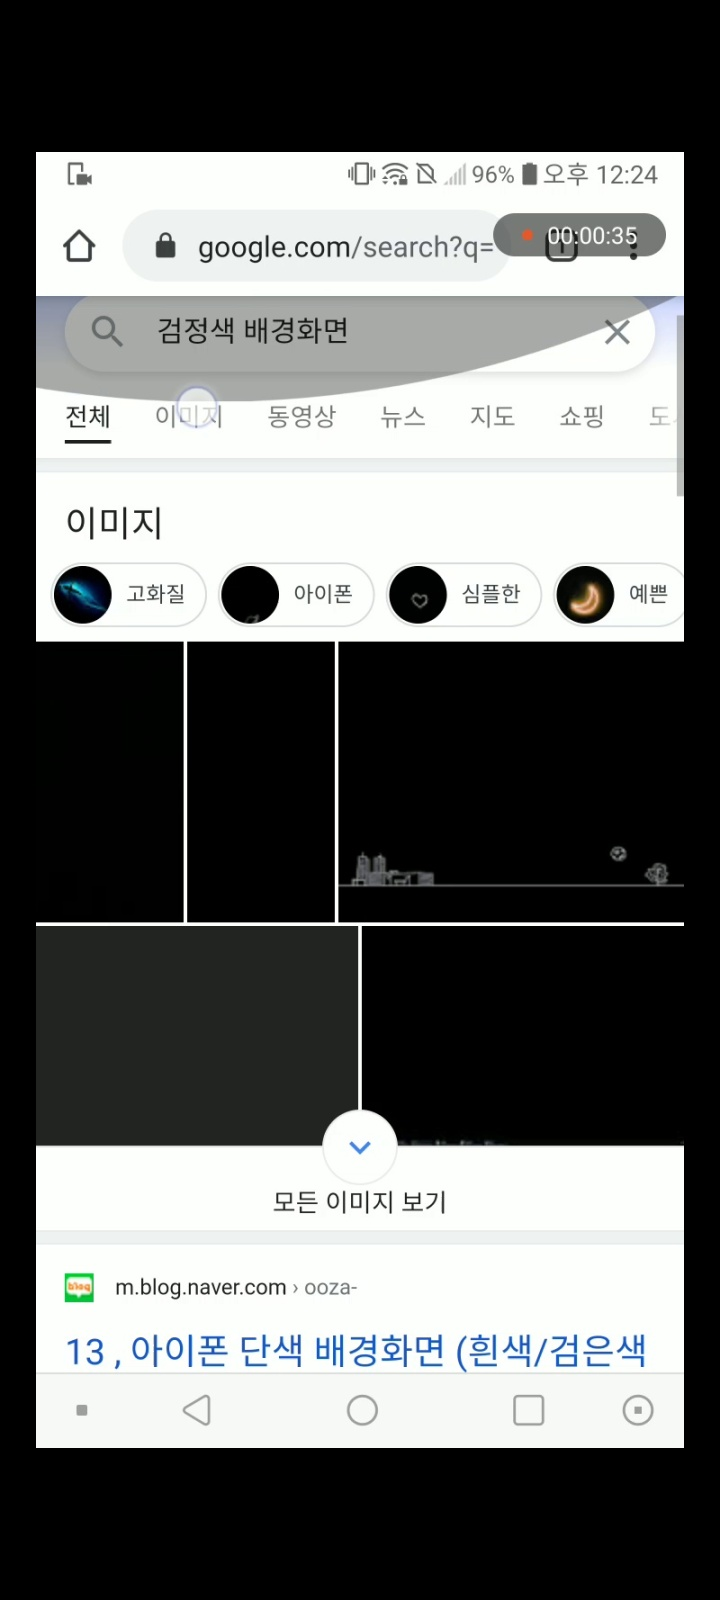Cursor: (176, 386, 221, 431)
